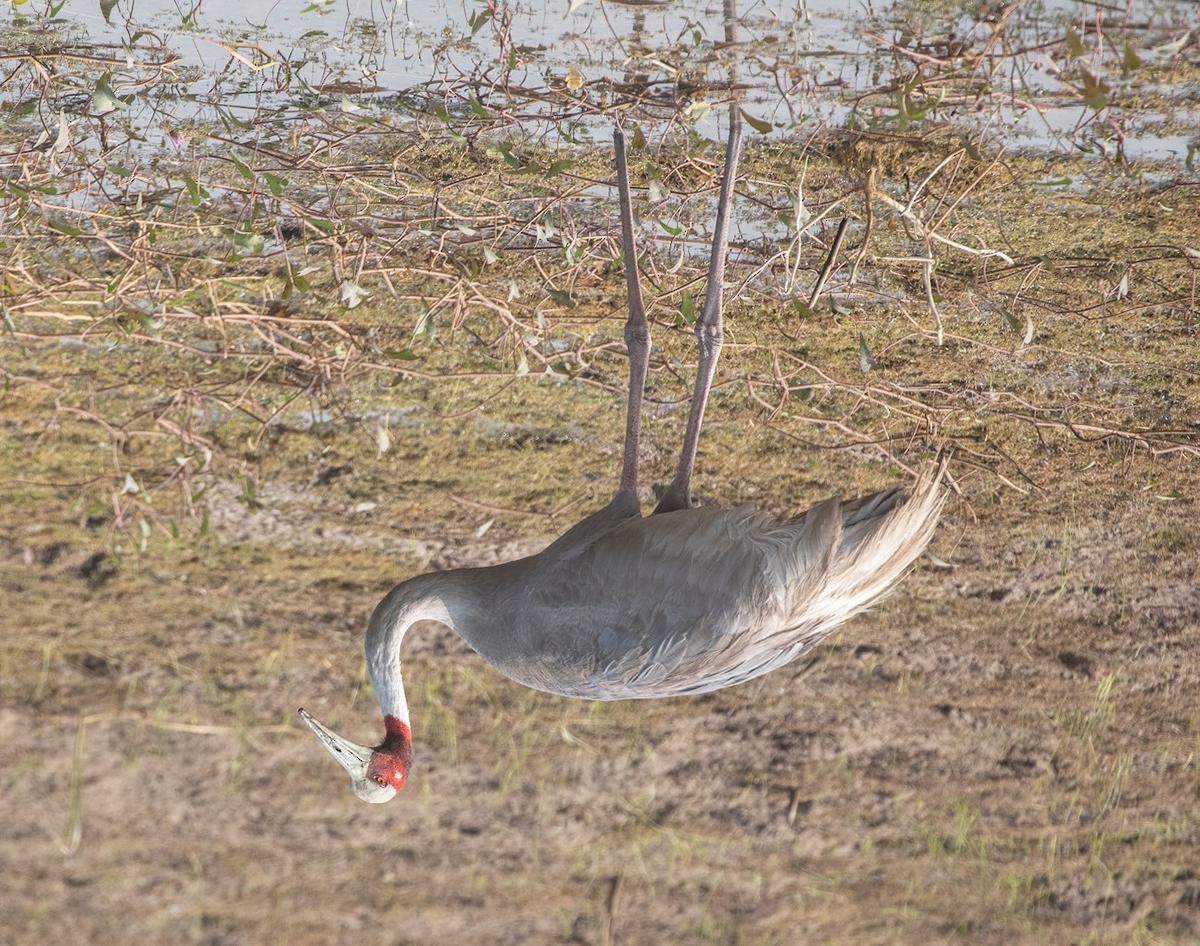crane: (299, 78, 923, 826)
